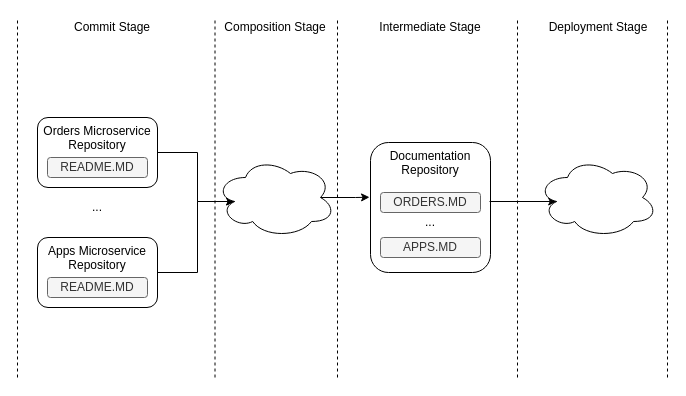
The diagram is 686 pixels wide and 396 high, and some of its shapes have lost their labels. Here are the shapes that lost their labels. From the top down, the centre of each, then its label:
the point at 275,197: ❤️Travis CI
the point at 597,197: Github Pages
